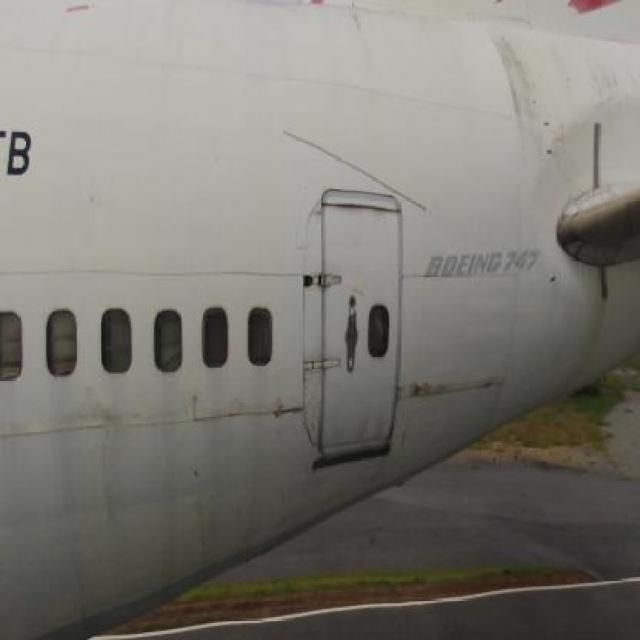Rust: (492, 33, 560, 199), (404, 358, 508, 405), (580, 44, 634, 111), (583, 275, 614, 382), (323, 191, 405, 229), (343, 407, 397, 455)
Scartch: (78, 398, 124, 520), (264, 381, 305, 428), (176, 382, 209, 431)
